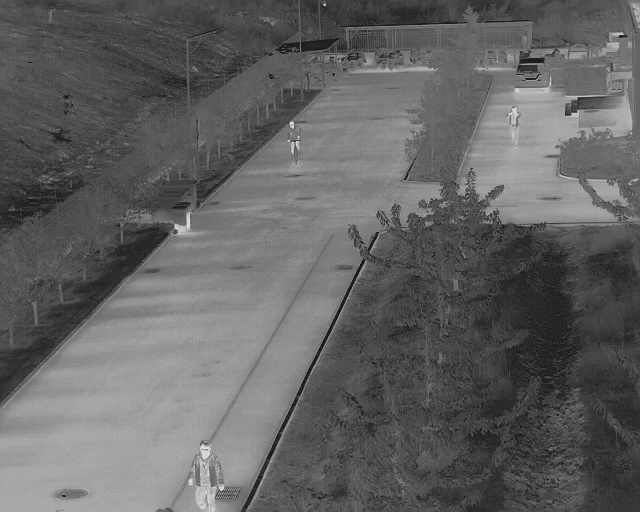NonMotorVehicle: (284, 119, 305, 164)
person: (185, 439, 228, 512), (504, 105, 524, 150)
vehicle: (511, 55, 551, 94)
